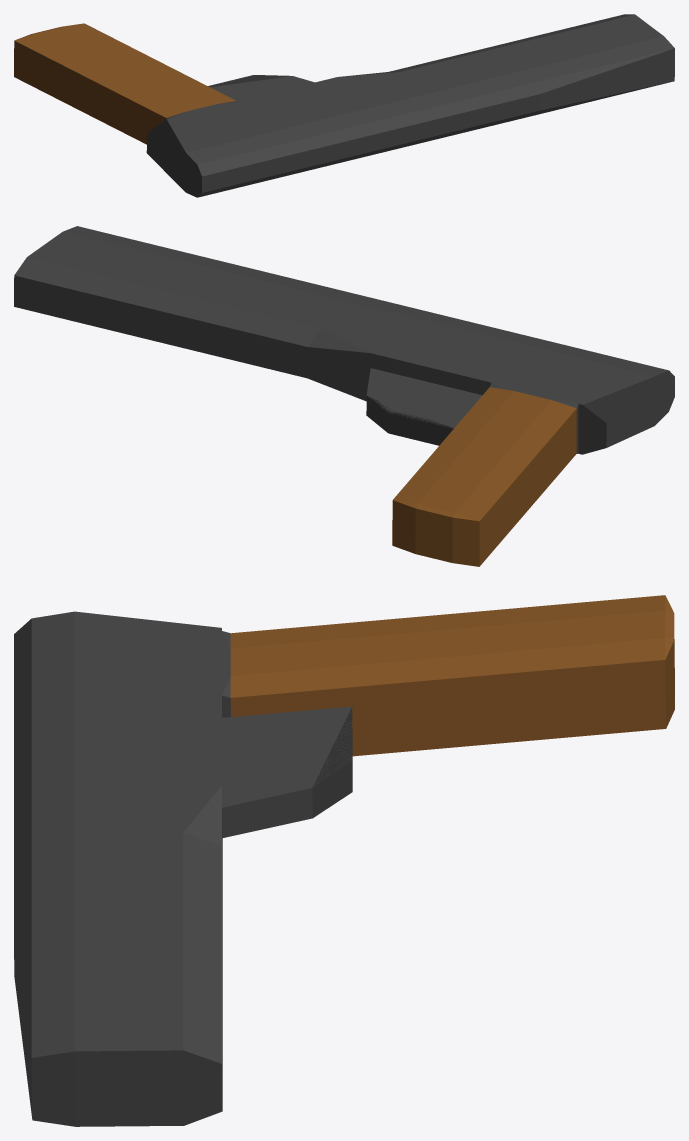
File: Pistol.fbx
3 views of the same model, one above another, from view 1: azimuth 30°, elevation 25°; view 2: azimuth 150°, elevation 25°; view 3: azimuth 270°, elevation 25° (orthographic). The views are drawn at different scales.
Visible parts, largest first — view 1: Cube; view 2: Cube; view 3: Cube.
Part boxes in pixels (bbox=[...]): Cube: bbox=[14, 14, 674, 197]; Cube: bbox=[14, 226, 674, 566]; Cube: bbox=[14, 595, 674, 1126].
Size of the model in its own units: 25.79 by 2.15 by 15.88.
